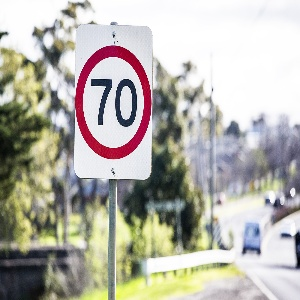70 speed: (75, 46, 152, 159)
